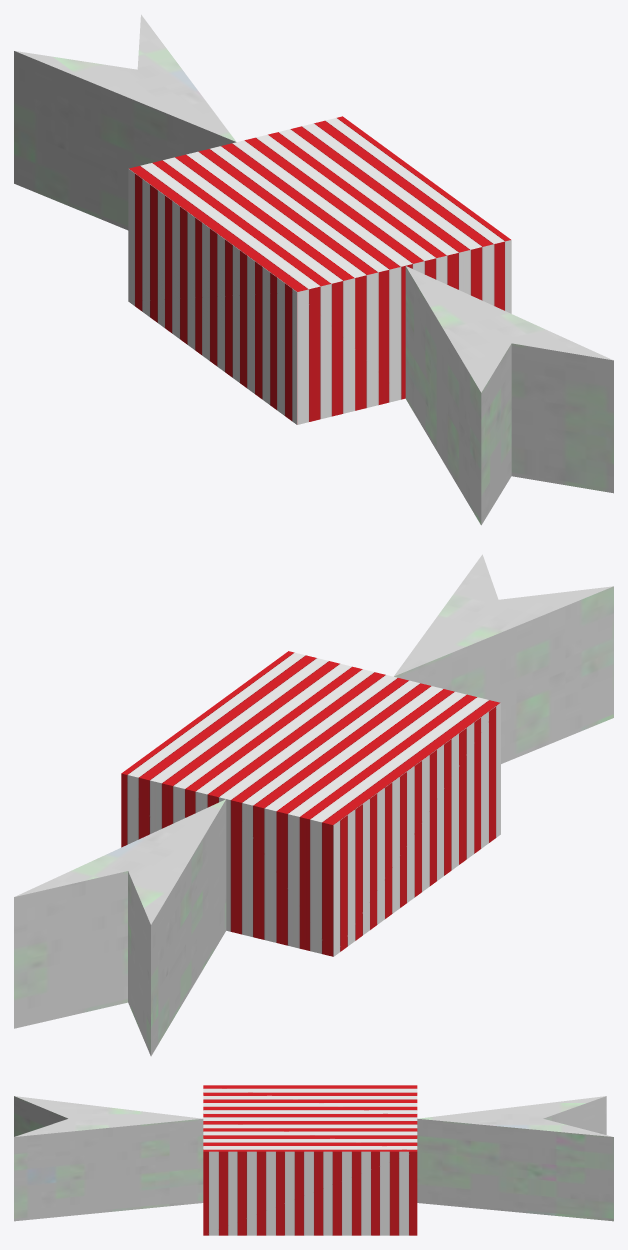
Rendered from spacecandy.dae.
3 views of the same model, one above another, from view 1: azimuth 30°, elevation 25°; view 2: azimuth 150°, elevation 25°; view 3: azimuth 270°, elevation 25° (orthographic). The views are drawn at different scales.
Visible parts, largest first — view 1: SketchUp, SketchUp_002, SketchUp_001; view 2: SketchUp, SketchUp_001, SketchUp_002; view 3: SketchUp, SketchUp_001, SketchUp_002.
Part boxes in pixels (x1,y1,x2,y2): SketchUp: [128, 116, 511, 424]; SketchUp_002: [405, 266, 613, 525]; SketchUp_001: [14, 14, 236, 230]; SketchUp: [121, 651, 500, 956]; SketchUp_001: [14, 799, 226, 1056]; SketchUp_002: [394, 554, 613, 763]; SketchUp: [203, 1085, 417, 1235]; SketchUp_001: [417, 1096, 613, 1221]; SketchUp_002: [14, 1096, 203, 1221].
Size of the model in its own units: 0.0986 by 0.3767 by 0.0584.
2 materials, 2 textured.
